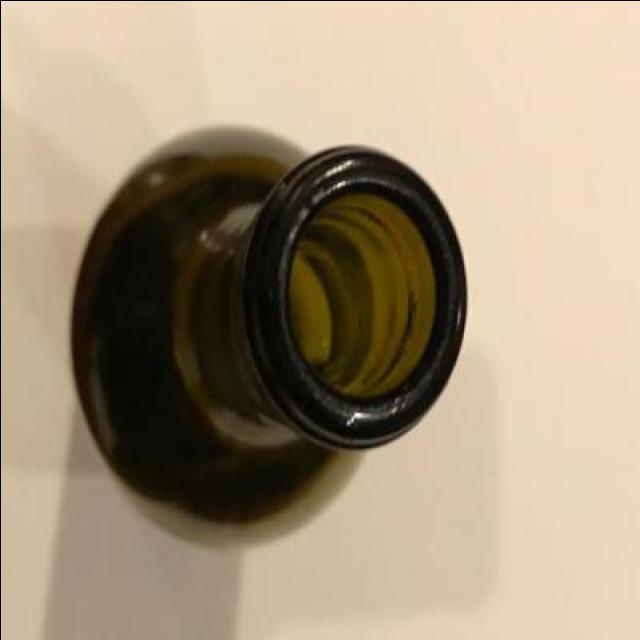kaca: (72, 124, 470, 539)
